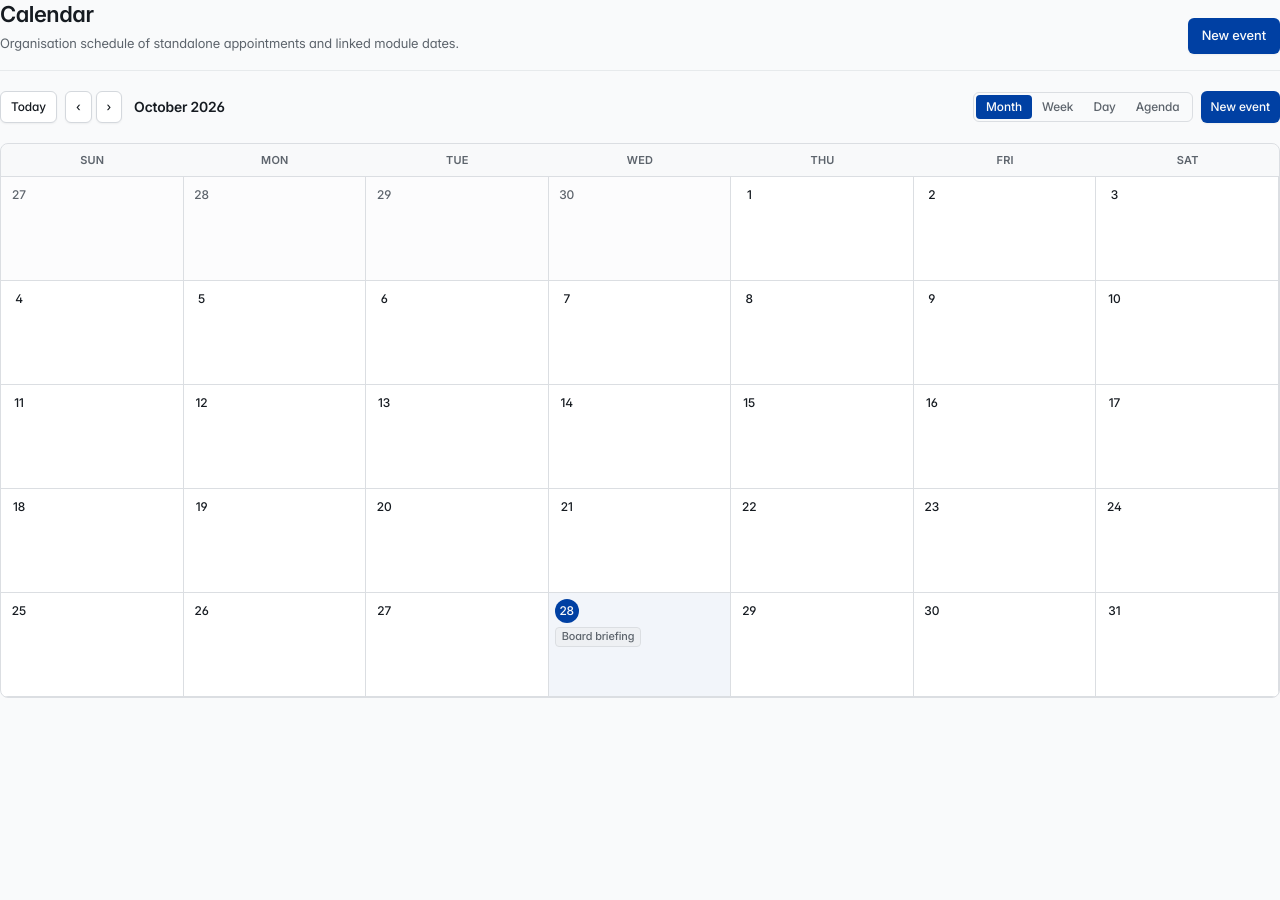
Calendar page › renders events and opens create sheet
Check: the text "Board briefing" is shown, box [562,629,634,643]
Step 1. Click the button "New event" in the row of "Calendar" → x=1234, y=36, box [1188,18,1279,54]
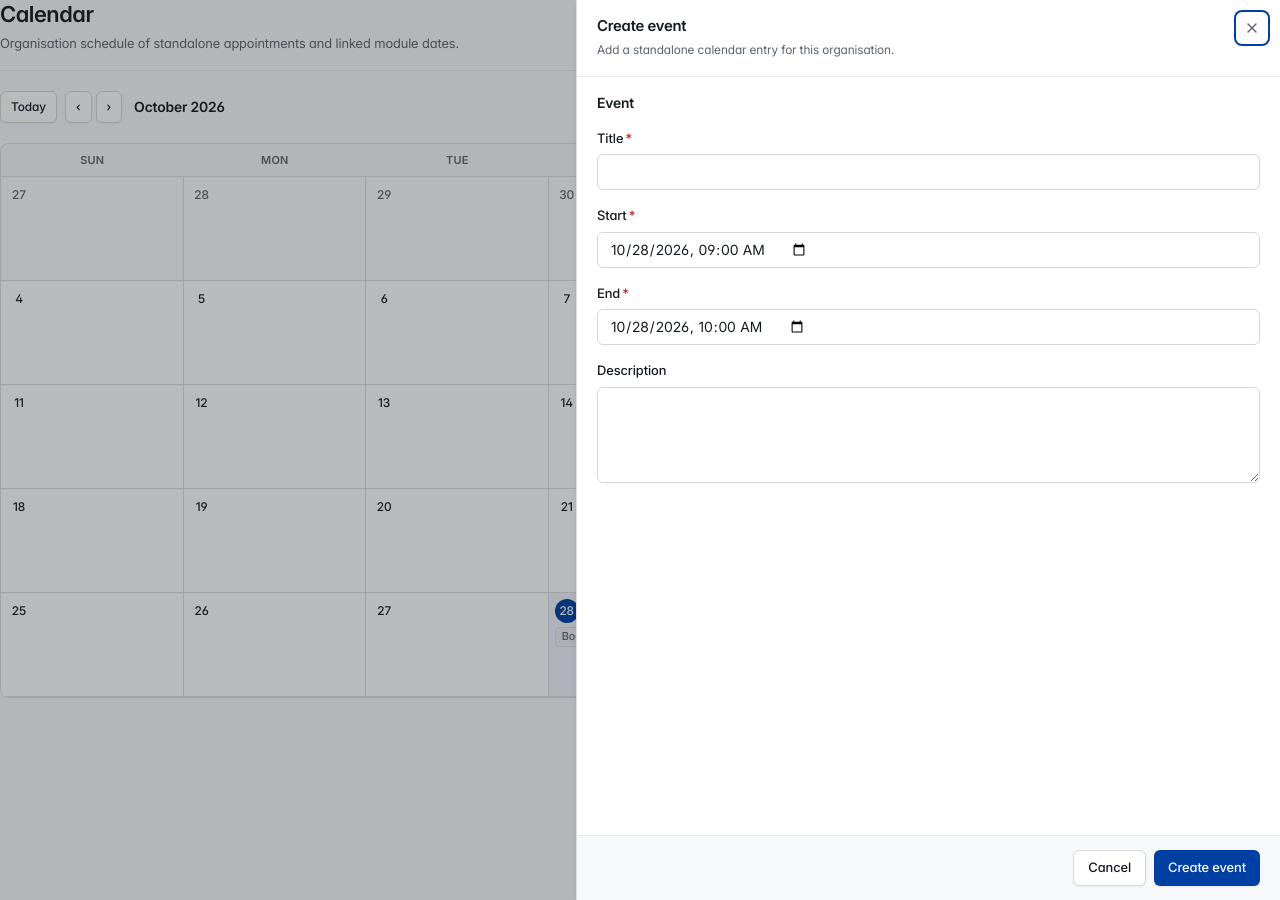
Check: the heading "Create event" is shown, box [597,16,686,35]
